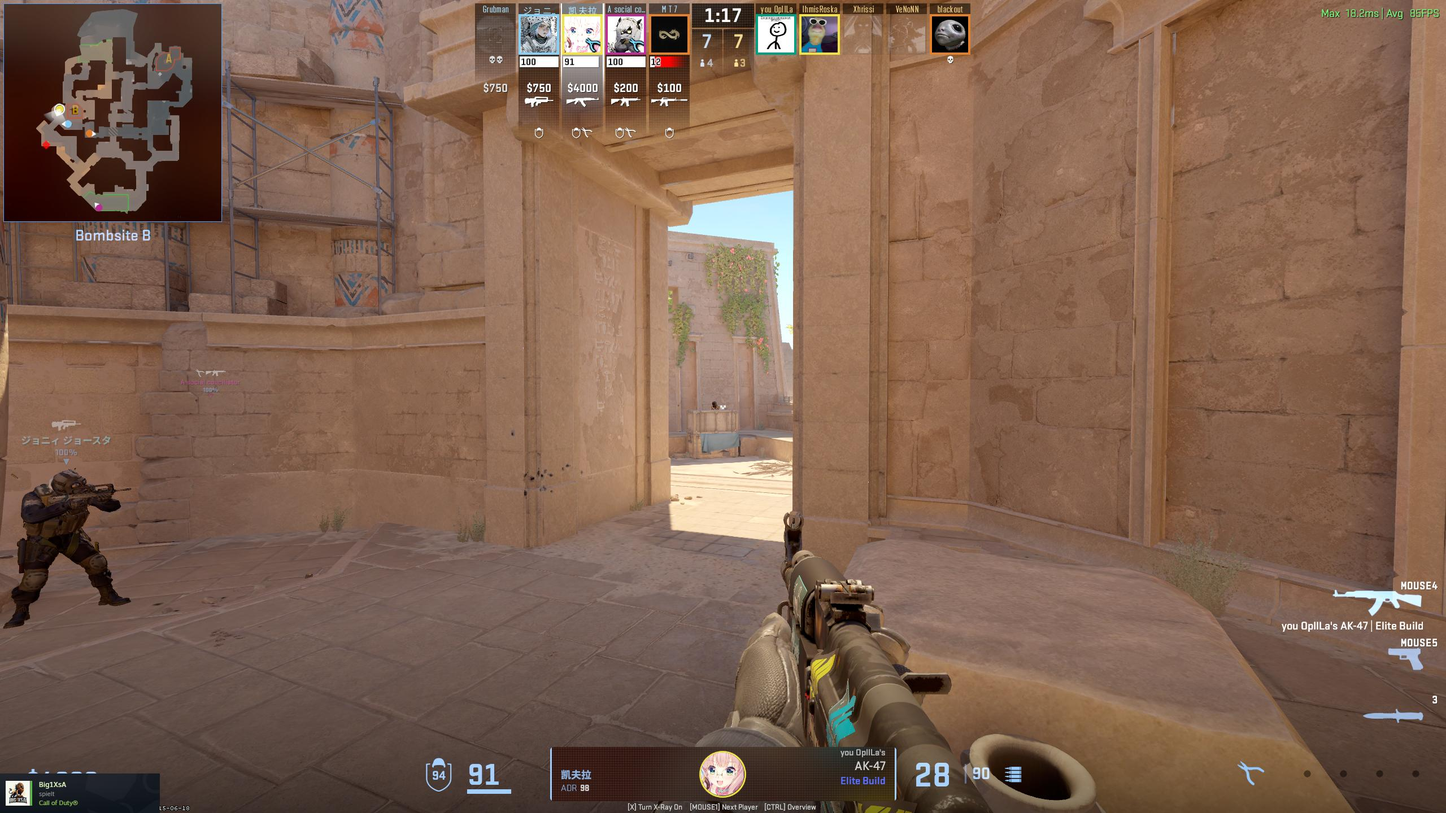CT: (5, 471, 131, 627)
